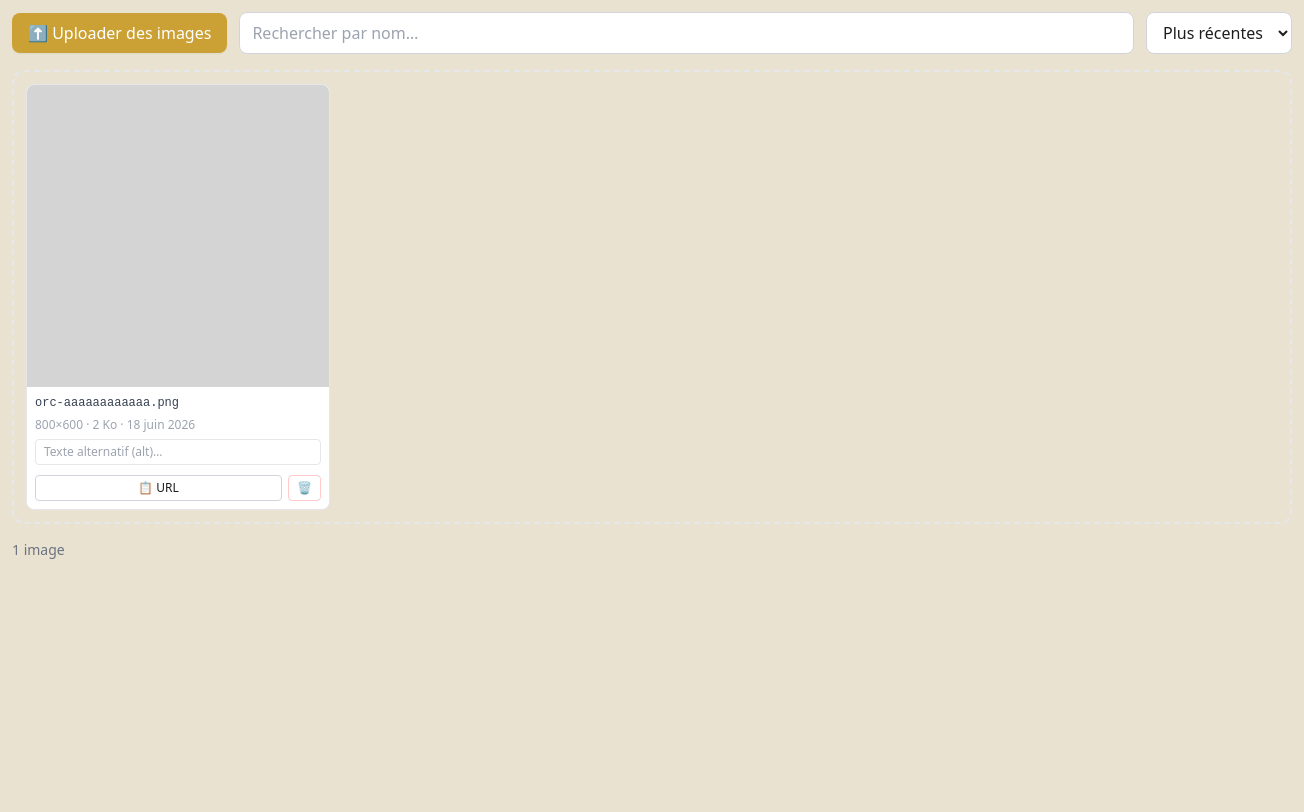
Scenario: MediaLibrary › supprime une image après confirmation
The width and height of the screenshot is (1304, 812).
Click the button with test id "media-delete-orc-aaaaaaaaaaaa.png".
click(304, 488)  # box left=288, top=475, right=321, bottom=501
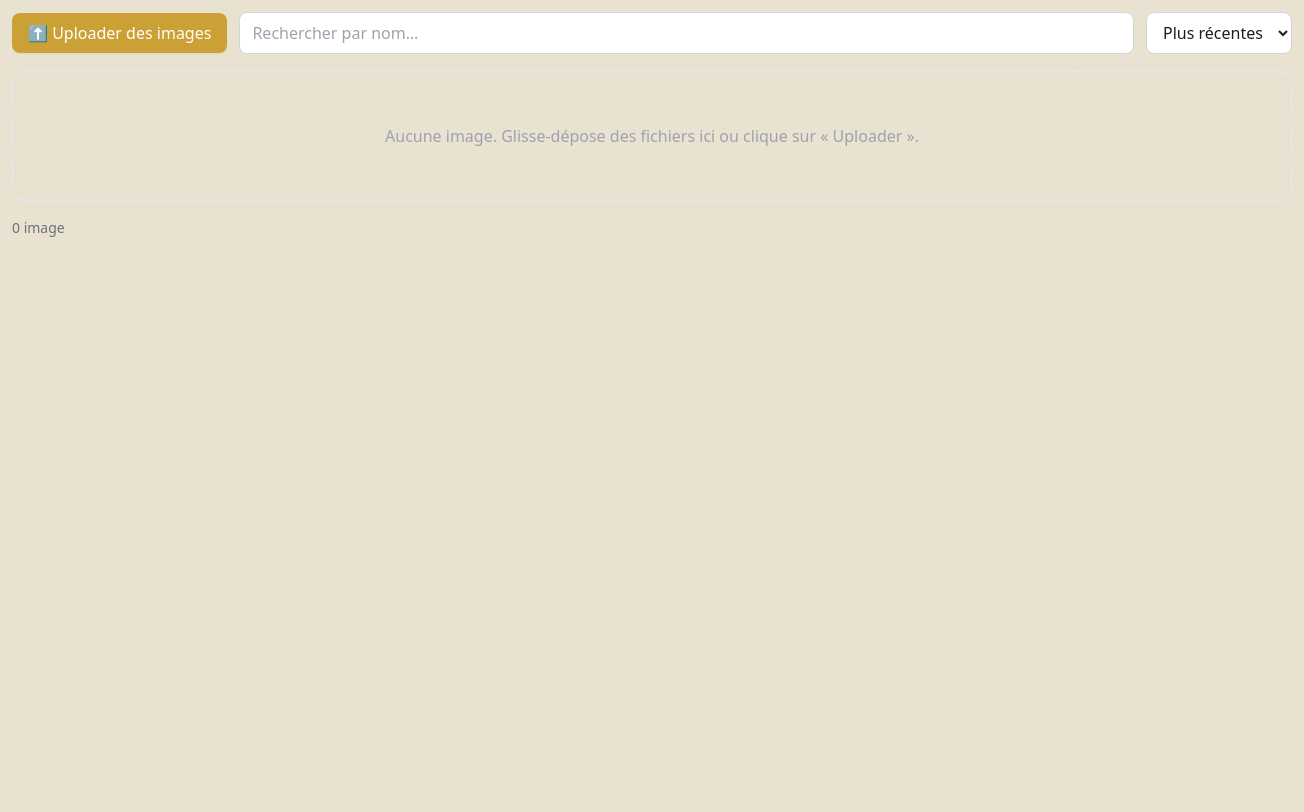
Expected: the text "orc-aaaaaaaaaaaa.png" is gone
